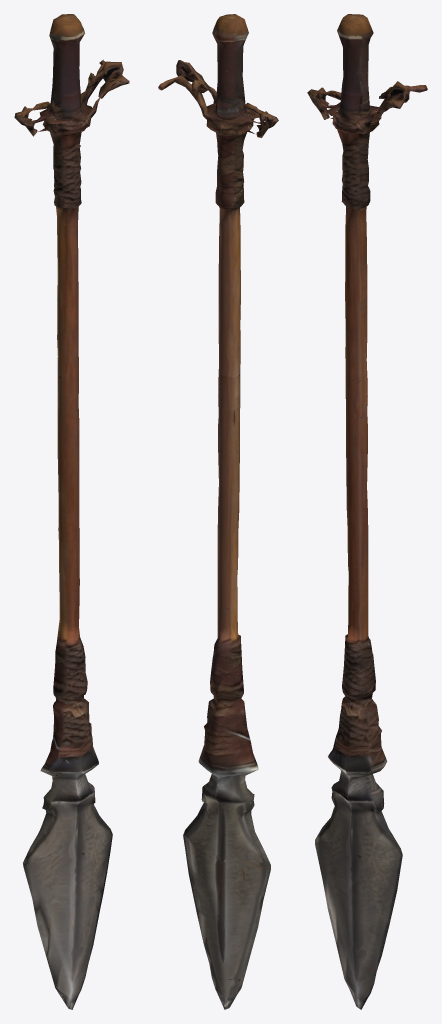
File: 1596_spear.glb
3 views of the same model, side by side, from view 1: azimuth 30°, elevation 25°; view 2: azimuth 150°, elevation 25°; view 3: azimuth 330°, elevation 25° (orthographic).
Visible parts, largest first — view 1: Model; view 2: Model; view 3: Model.
Boxes of the visible parts, x1,y1,x2,y2 form: Model: (14,14,129,1009); Model: (158,14,278,1009); Model: (307,14,427,1009).
Bounding box in the file's own units: 0.1116 × 1 × 0.0557.
Materials: 1 (1 with a texture image).
